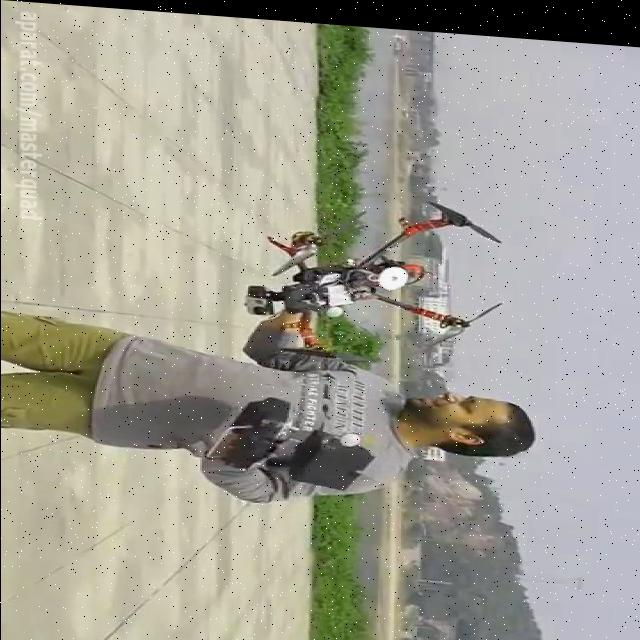drone: (242, 179, 506, 369)
